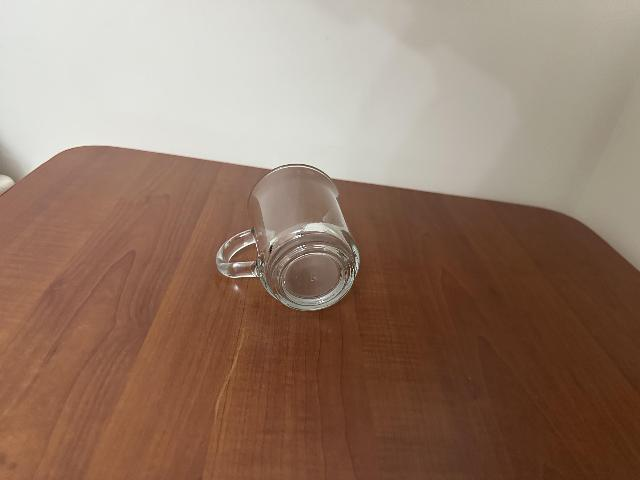Cam: (211, 165, 373, 317)
